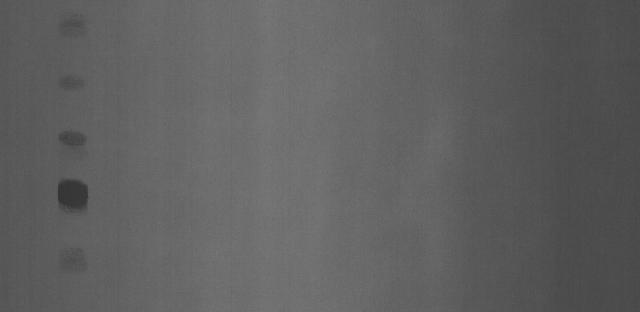oil_spot: (51, 171, 101, 222), (50, 6, 97, 40), (55, 245, 94, 276), (56, 67, 94, 95), (57, 125, 95, 153)
